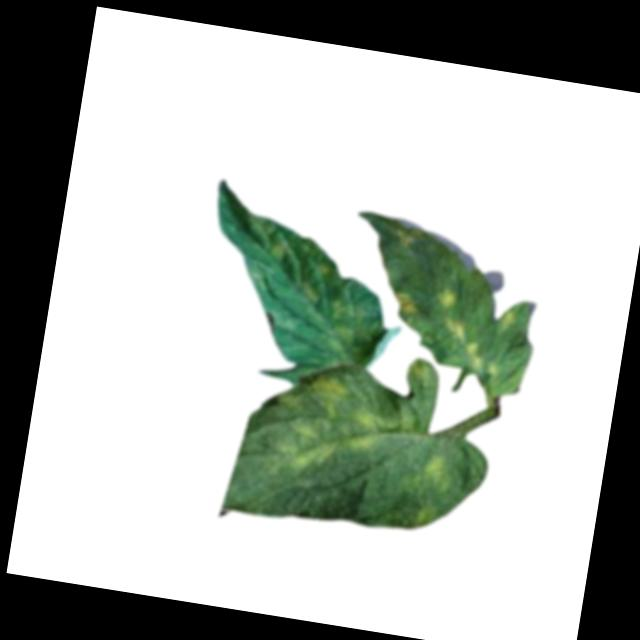Leaf_Mold: (266, 370, 399, 485), (318, 297, 386, 375), (266, 235, 340, 305), (398, 448, 457, 529), (461, 340, 500, 376), (395, 289, 424, 317), (396, 221, 425, 245), (444, 315, 470, 341), (435, 284, 458, 311), (497, 307, 519, 333)
